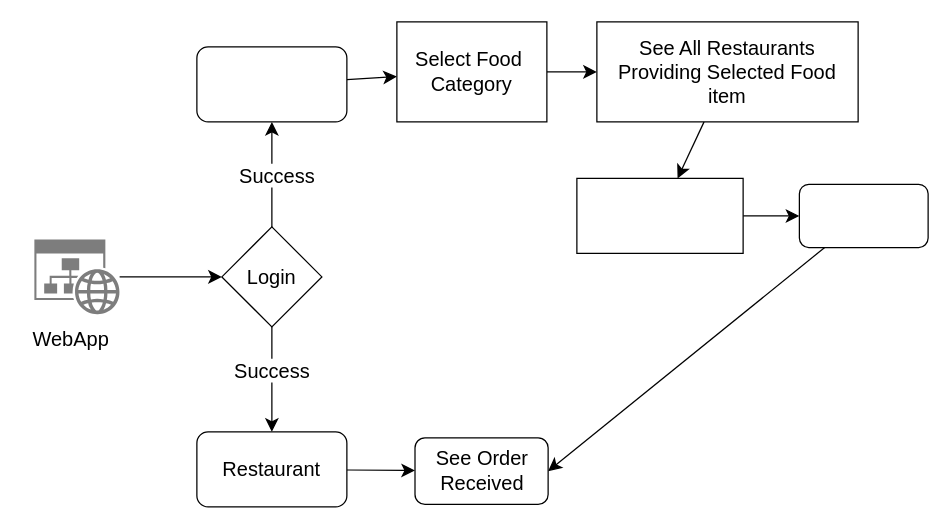
Image size: 951x529. Some labels were removed from this diagram. Each missing label, with the box of its shape:
Add items With Quantity: (576, 177, 743, 253)
Customer: (196, 46, 347, 122)
Place Order: (798, 183, 928, 248)
